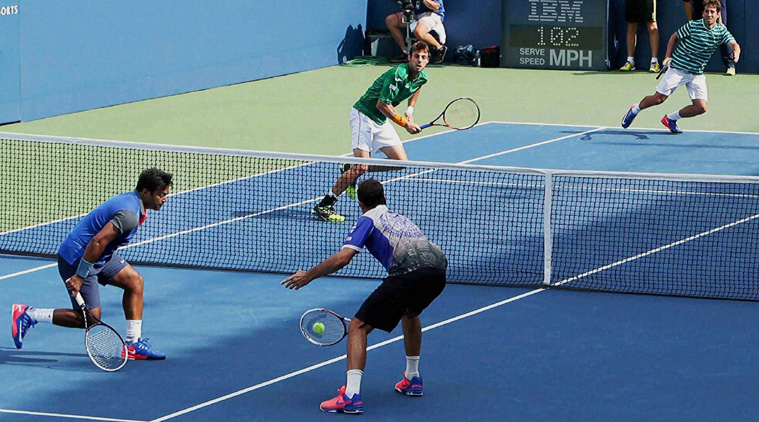tennis ball: (312, 321, 327, 336)
tennis player: (280, 176, 454, 416), (10, 161, 177, 373), (620, 2, 743, 137), (338, 41, 437, 161)
